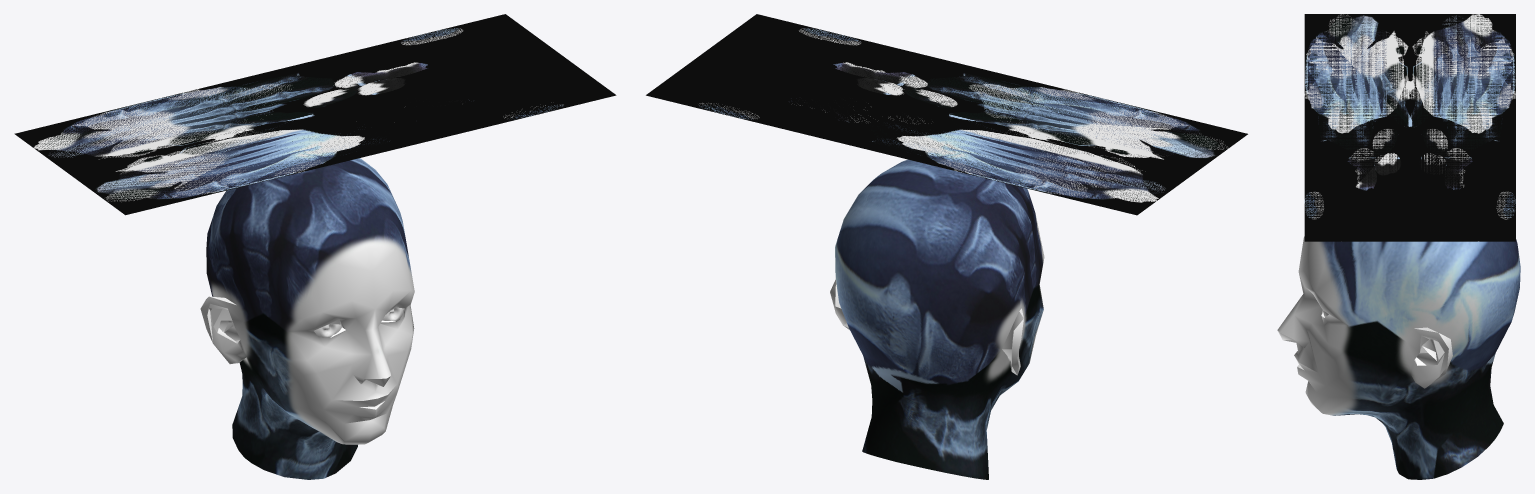
3 renders of one model, left to right at view 1: azimuth 30°, elevation 25°; view 2: azimuth 150°, elevation 25°; view 3: azimuth 270°, elevation 25°, orthographic. The views are drawn at different scales.
Parts seen in each view (by area): view 1: Cube, FemaleHead; view 2: Cube, FemaleHead; view 3: Cube, FemaleHead.
Part boxes in pixels (x1,y1,x2,y2): Cube: (14,14,616,215); FemaleHead: (200,158,414,479); Cube: (646,14,1247,215); FemaleHead: (830,159,1044,479); Cube: (1304,14,1515,241); FemaleHead: (1277,236,1520,479).
Size of the model in its own units: 3.28 by 2.29 by 1.48.
2 materials, 2 textured.
